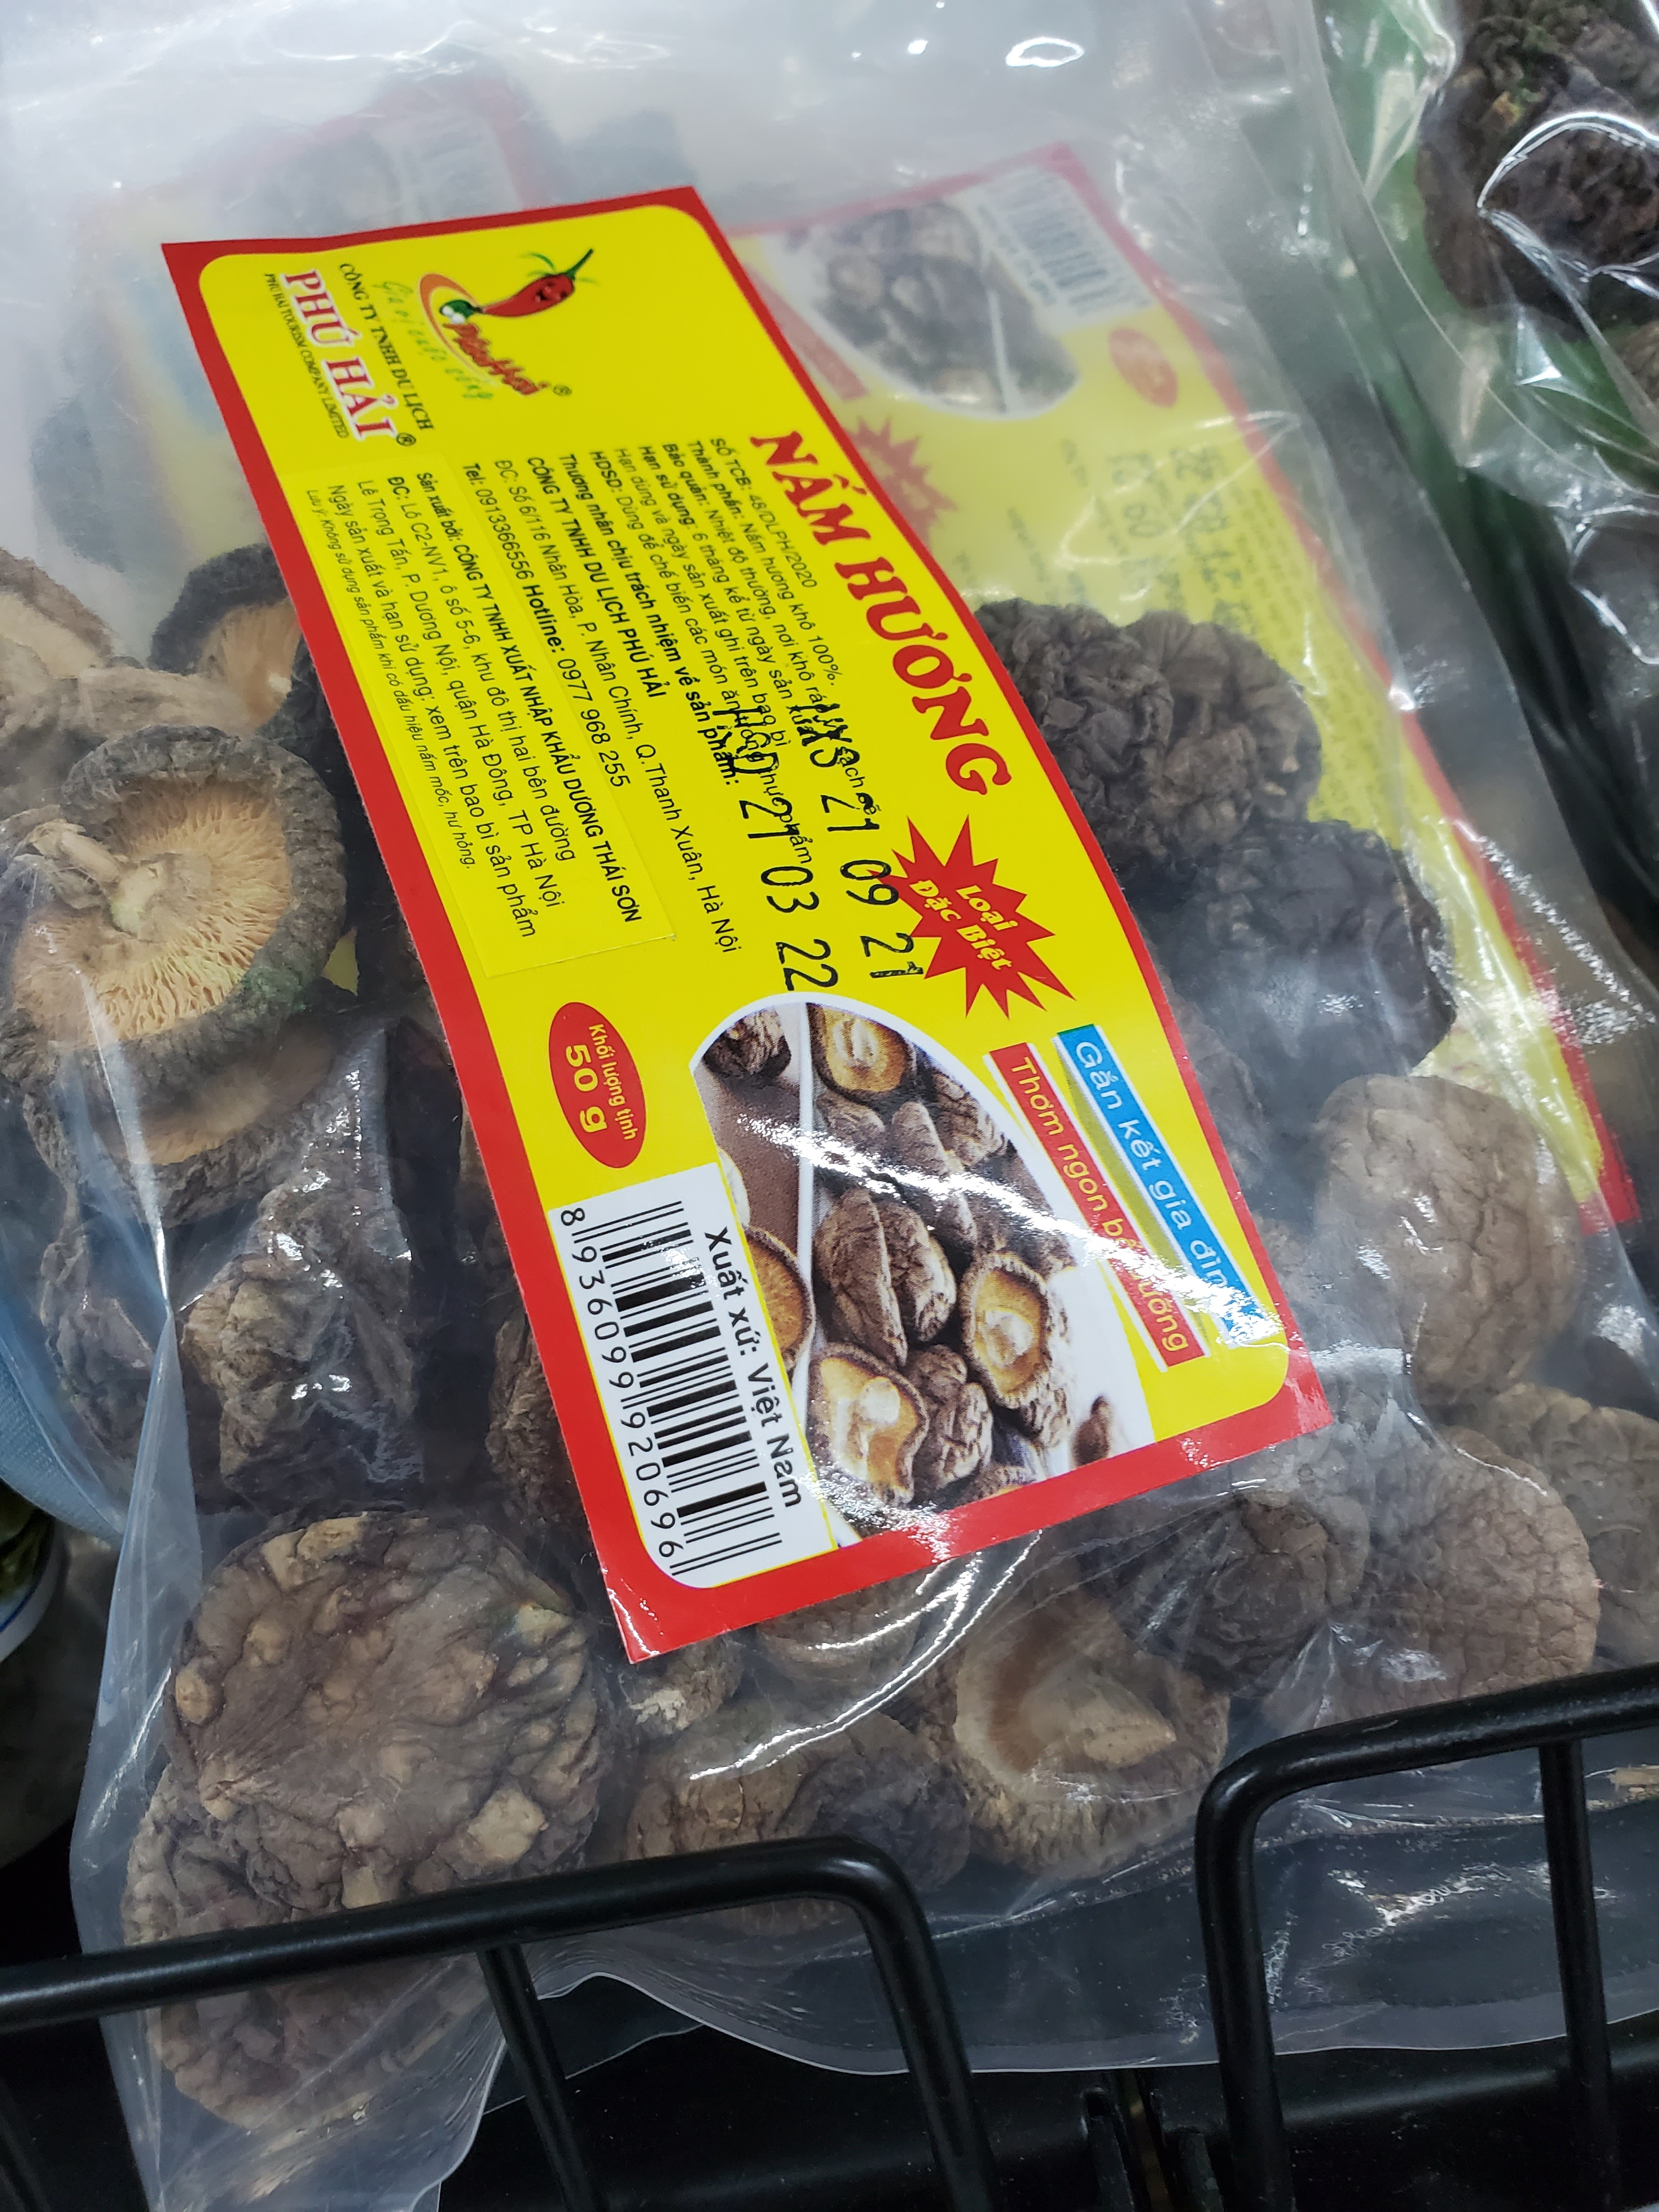barcode: (525, 1174, 805, 1595)
